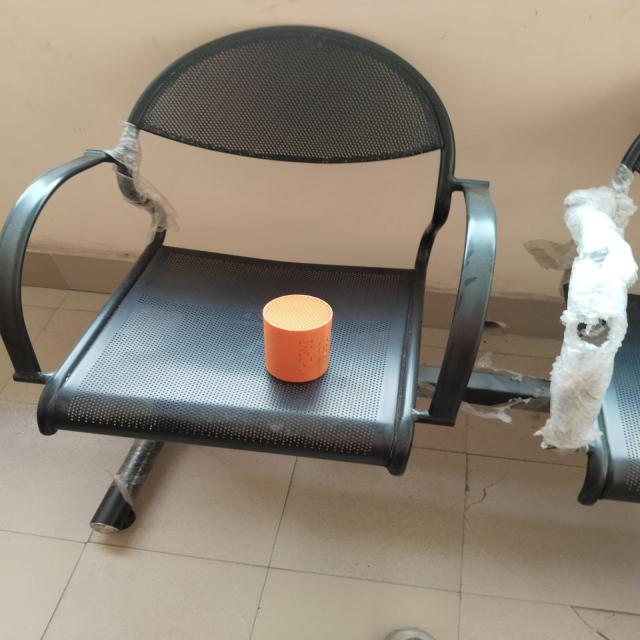Cylinder: (261, 293, 333, 383)
